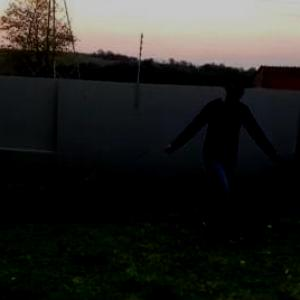land: (168, 67, 281, 233)
